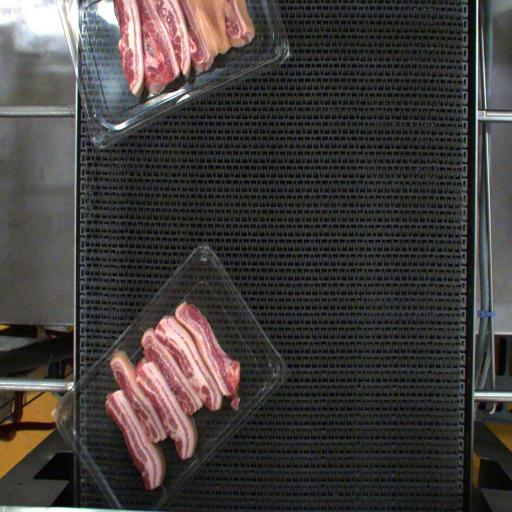packaging-error: (101, 344, 127, 370)
